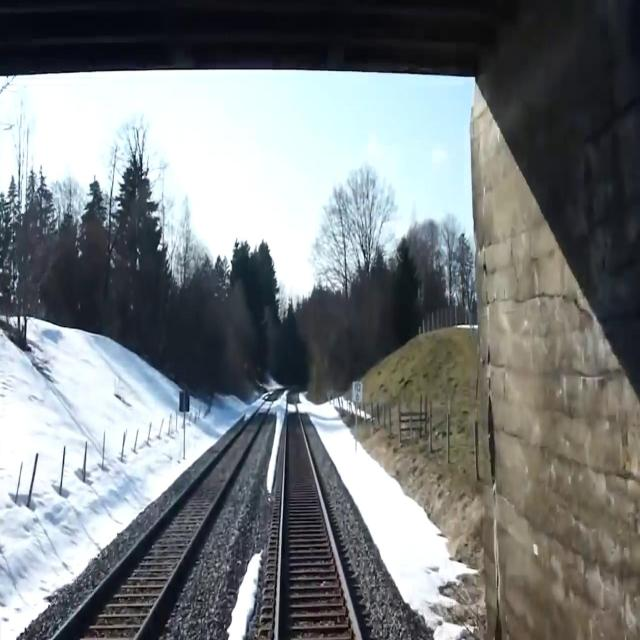rail-track: (57, 399, 271, 639), (280, 391, 356, 639)
